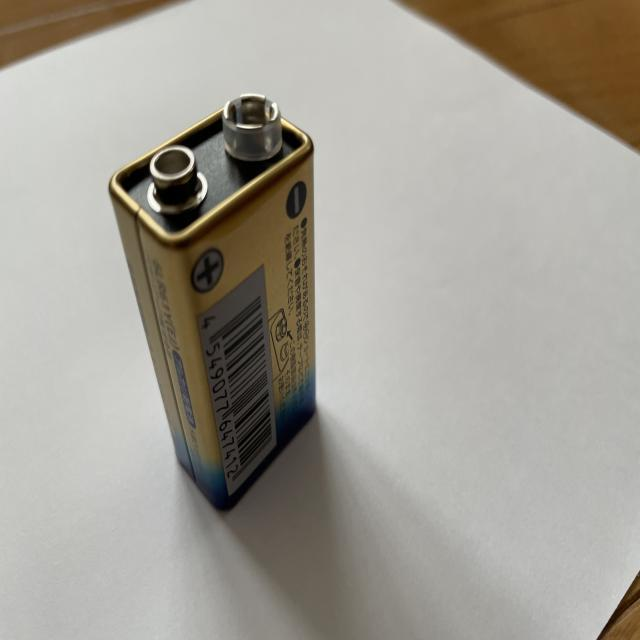9V: (110, 89, 316, 512)
